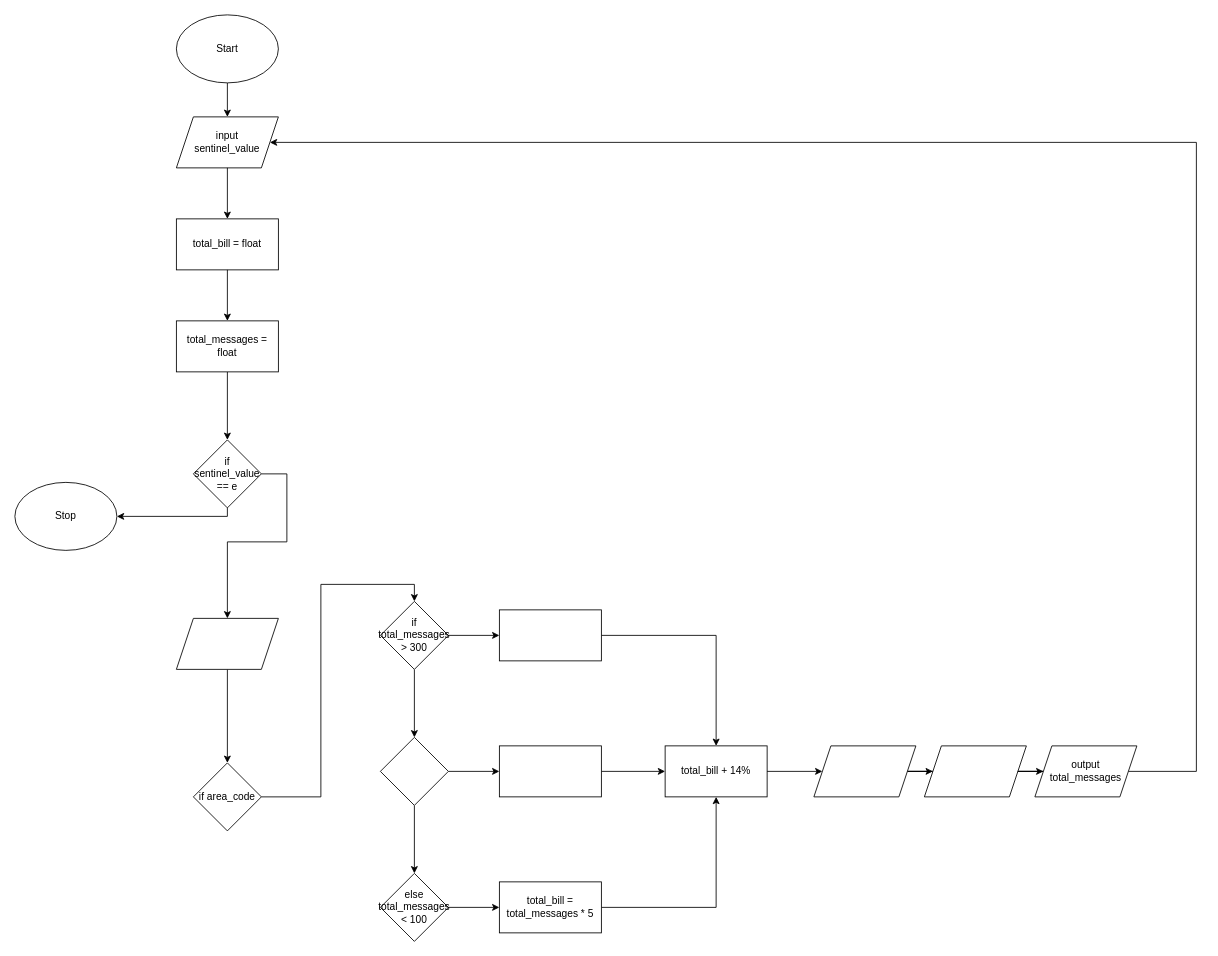
Image size: 1218x956. Some labels were removed from this diagram. The box of each missing label's shape, as (x1, y1, x2, y2) in pixels:
else if total_messages > 100 and < 300: (380, 737, 448, 805)
input area_code: (176, 618, 278, 669)
output area_code: (813, 745, 916, 797)
output total_bill: (924, 745, 1026, 797)
total_bill = (total_messages - 100) * 0.02 + 5: (499, 745, 601, 797)
total_bill = (total_messages - 300) * 0.02 + 200 * 0.03 + 5: (499, 609, 601, 661)
